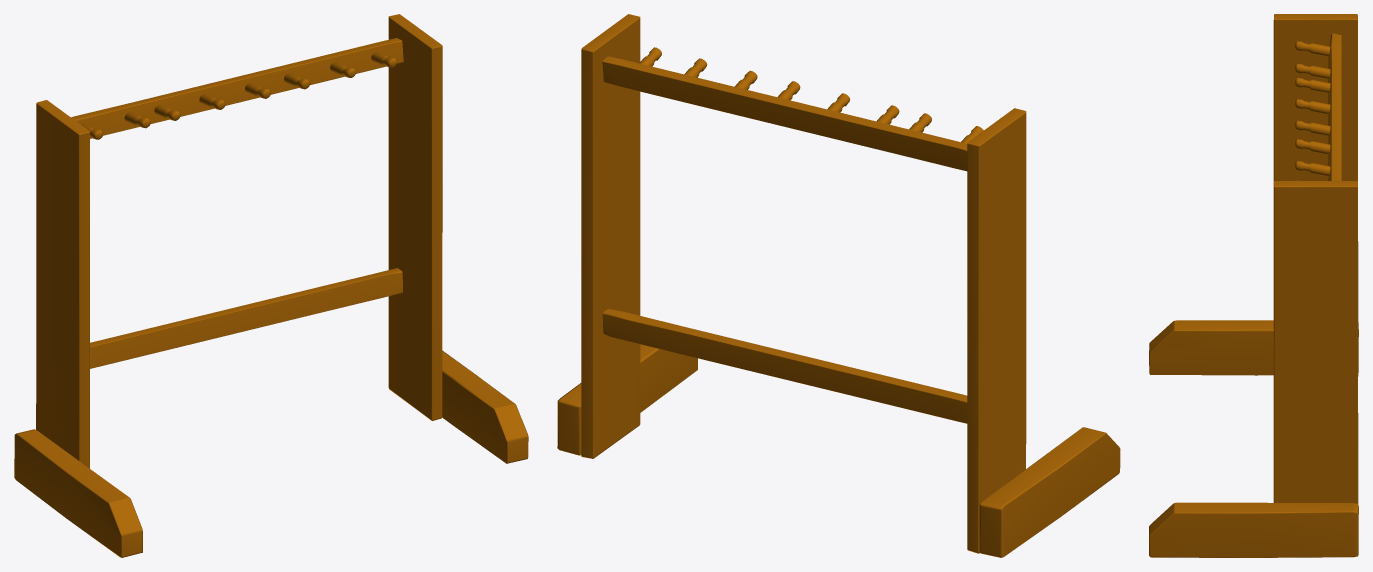
The model's file is Mod_weaponsRack02_LODs.fbx.
3 renders of one model, left to right at view 1: azimuth 30°, elevation 25°; view 2: azimuth 150°, elevation 25°; view 3: azimuth 270°, elevation 25°, orthographic. The views are drawn at different scales.
Visible parts, largest first — view 1: rack02_LOD0; view 2: rack02_LOD0; view 3: rack02_LOD0.
Part boxes in pixels (x1=…): rack02_LOD0: x1=14, y1=14, x2=528, y2=557; rack02_LOD0: x1=557, y1=14, x2=1120, y2=557; rack02_LOD0: x1=1149, y1=14, x2=1358, y2=557.
Size of the model in its own units: 171 by 149 by 78.28.
